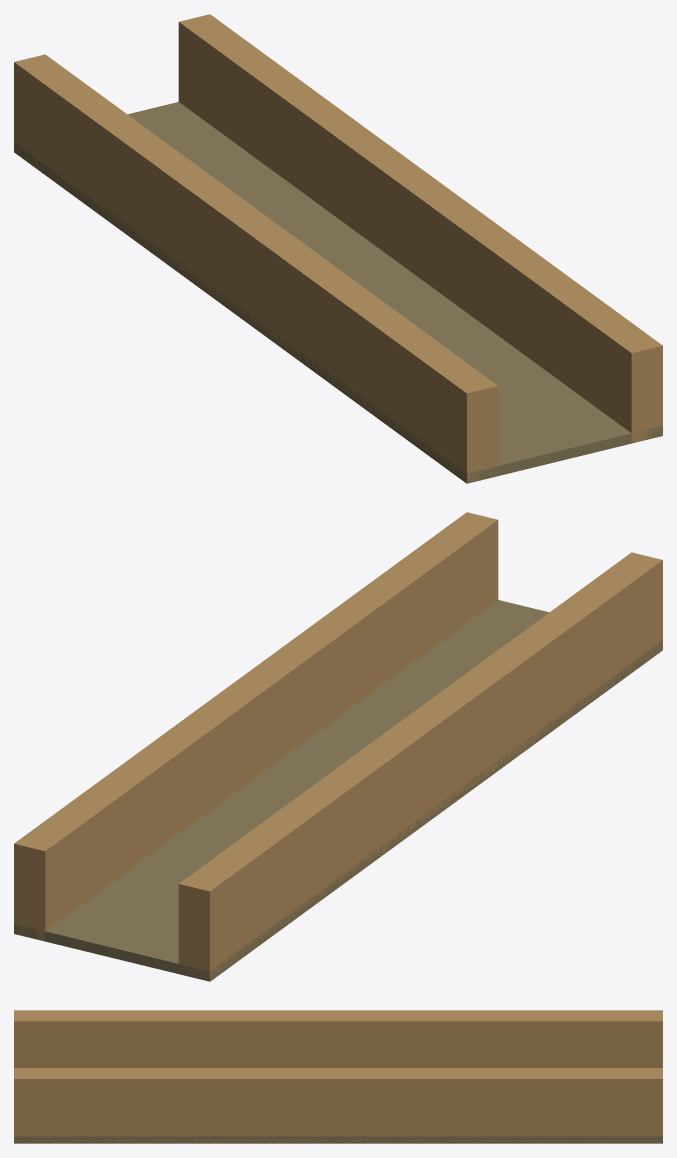
File: TR3_IrrigationDitch_Dry_4m.glb
The picture shows the model from 3 angles, top to bottom: view 1: azimuth 30°, elevation 25°; view 2: azimuth 150°, elevation 25°; view 3: azimuth 270°, elevation 25°; orthographic projection. The views are drawn at different scales.
Visible parts, largest first — view 1: TR3_IrrigationDitch_Dry_4m; view 2: TR3_IrrigationDitch_Dry_4m; view 3: TR3_IrrigationDitch_Dry_4m.
Boxes of the visible parts, x1,y1,x2,y2 form: TR3_IrrigationDitch_Dry_4m: (14, 14, 662, 483); TR3_IrrigationDitch_Dry_4m: (14, 512, 662, 981); TR3_IrrigationDitch_Dry_4m: (14, 1010, 662, 1143).
Bounding box in the file's own units: 1 × 0.44 × 4.
